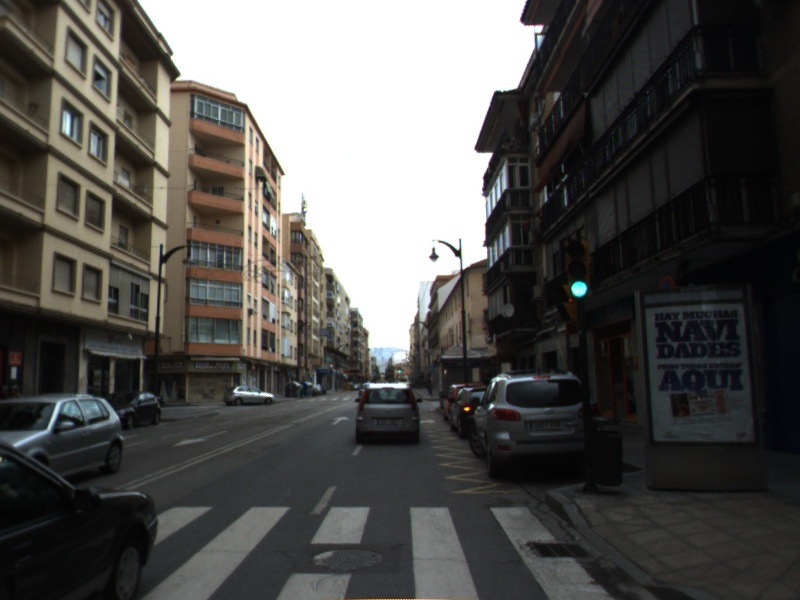STRAIGHT: (329, 414, 351, 427)
